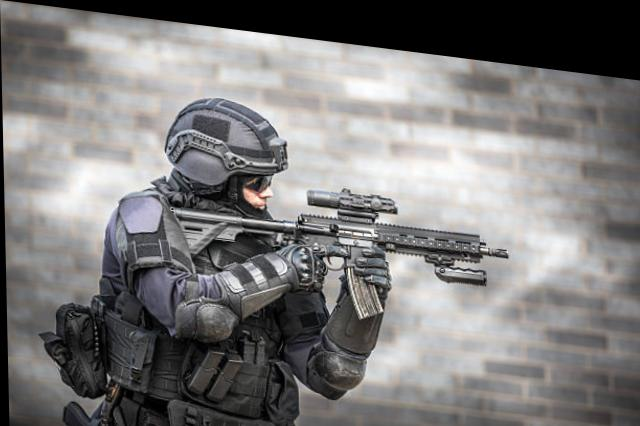other: (96, 77, 340, 424)
